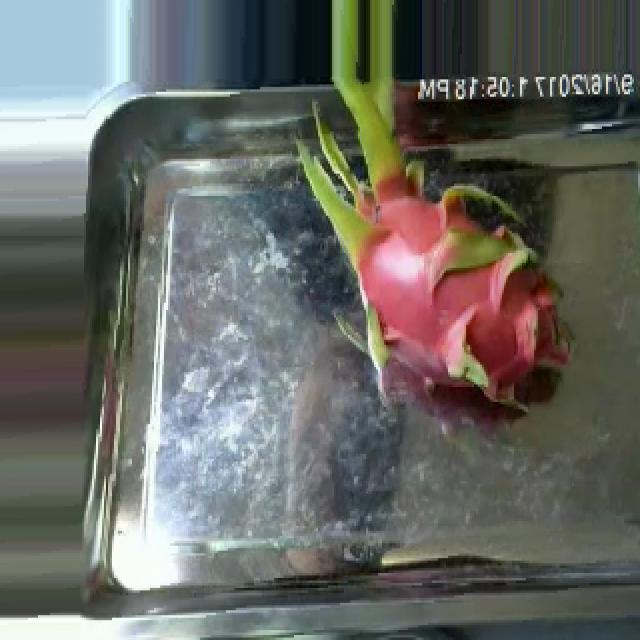fruit: (282, 57, 598, 427)
